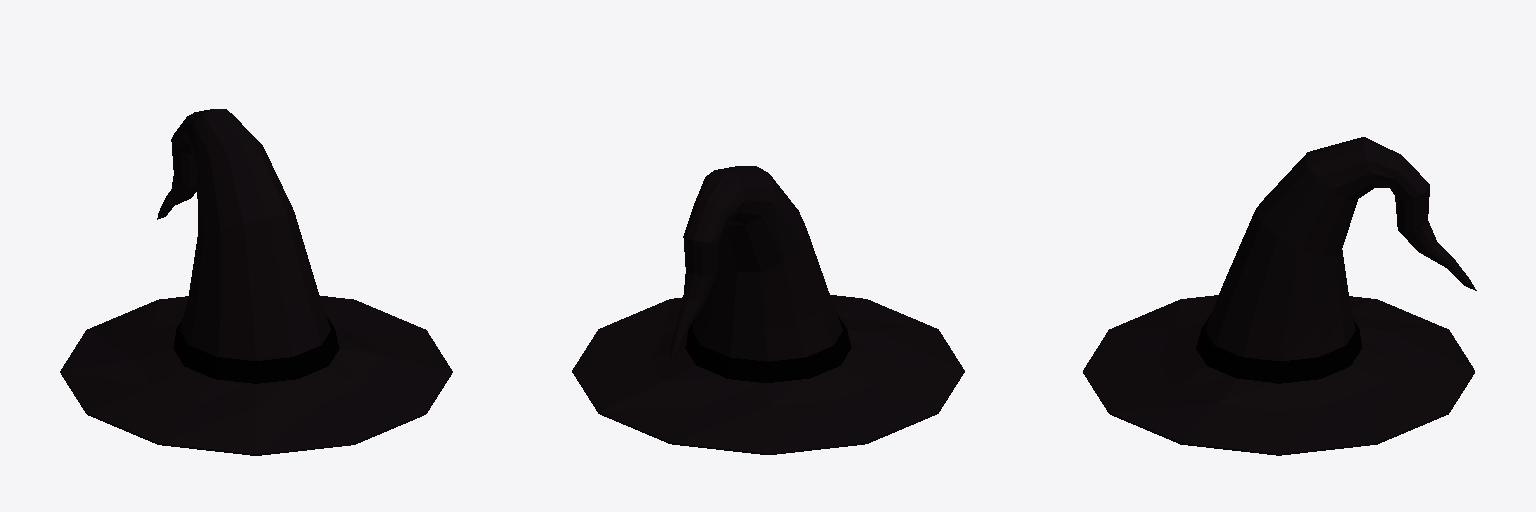
Rendered from wizard hat.obj.
3 renders of one model, left to right at view 1: azimuth 30°, elevation 25°; view 2: azimuth 150°, elevation 25°; view 3: azimuth 270°, elevation 25°, orthographic.
Size of the model in its own units: 5.11 by 3.36 by 5.13.